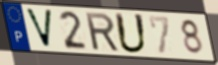2: (58, 10, 90, 51)
7: (148, 15, 172, 56)
8: (180, 18, 205, 56)
R: (83, 11, 122, 53)
U: (113, 12, 150, 56)
V: (24, 7, 55, 50)
